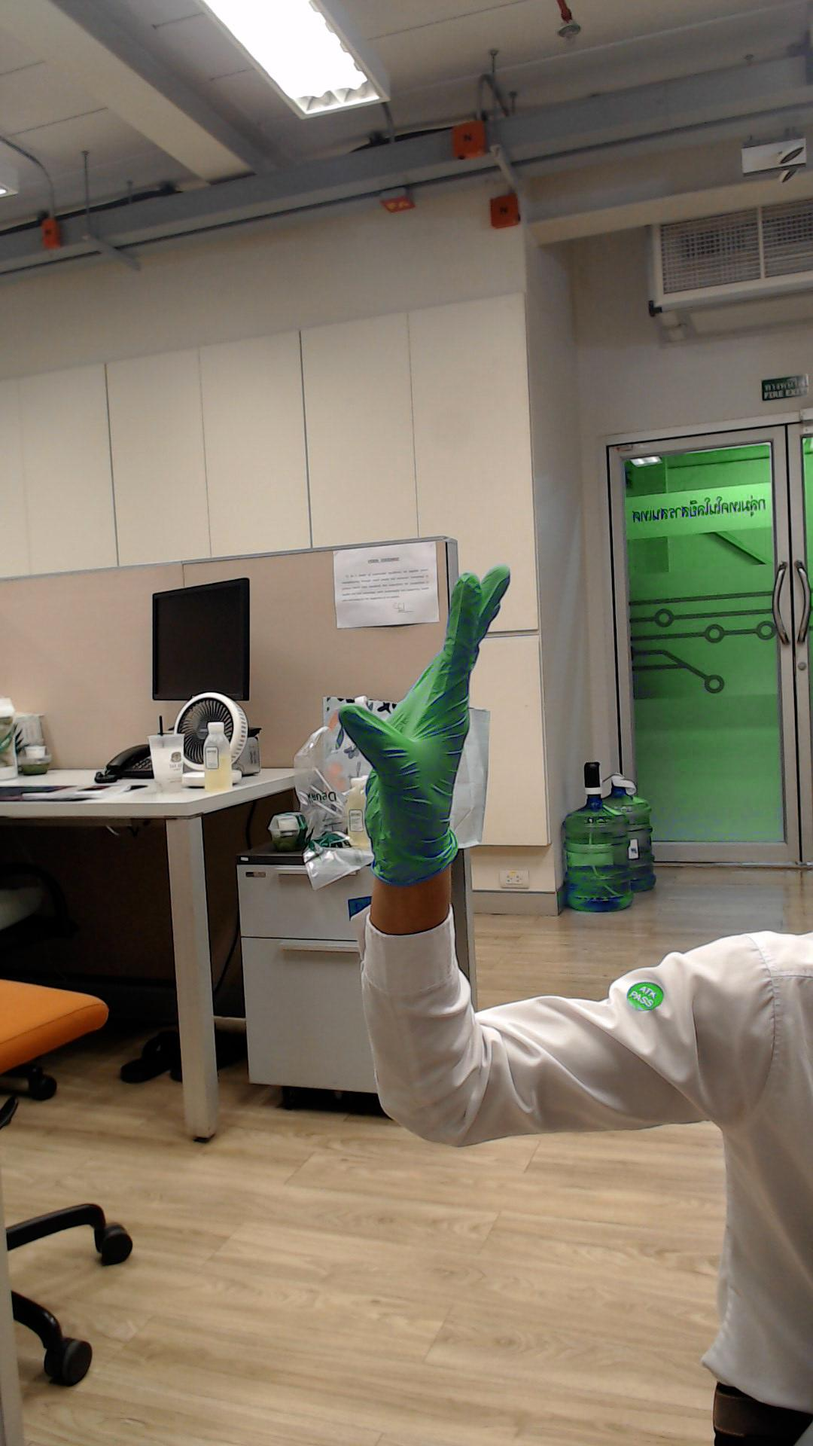gloves: (325, 554, 524, 836)
